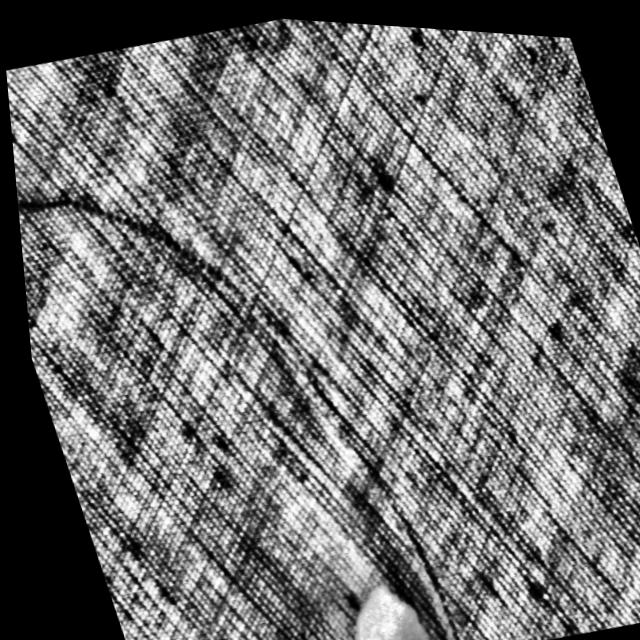Stitch: (7, 98, 462, 640), (285, 563, 434, 640)
